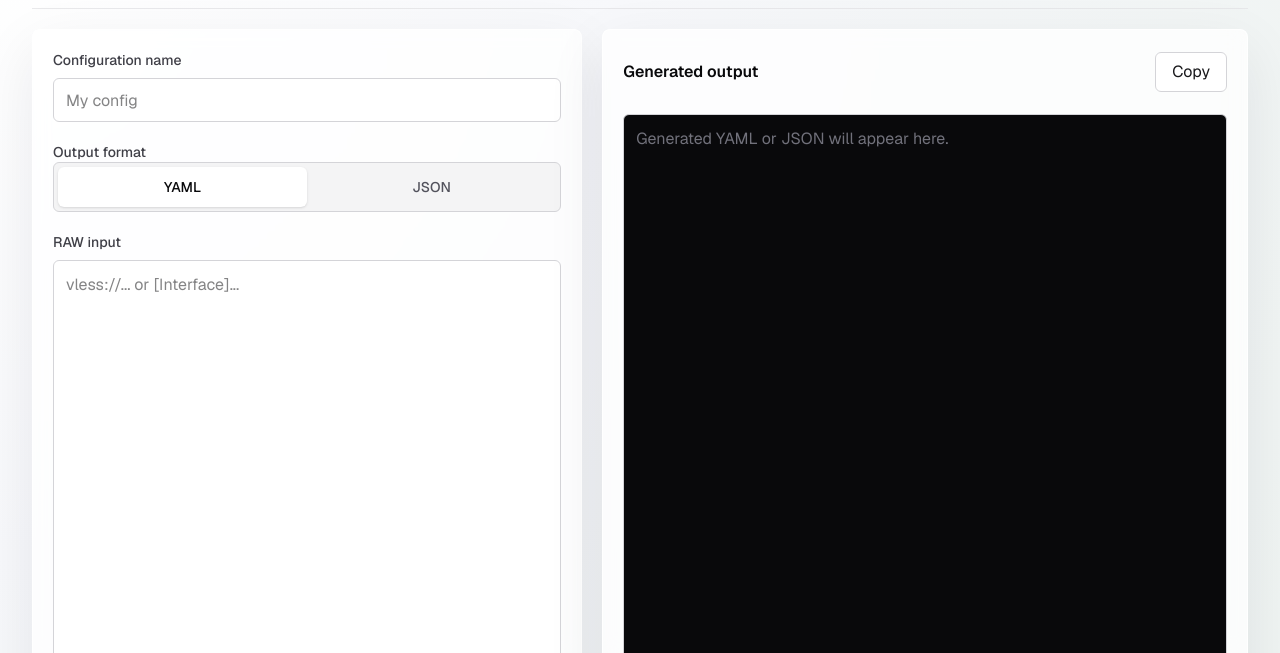
Scenario: ClashConverterPage › submits valid form data and copies generated output
In the field labelled "Configuration name": [307, 100] box [53, 78, 561, 122], type "Demo"
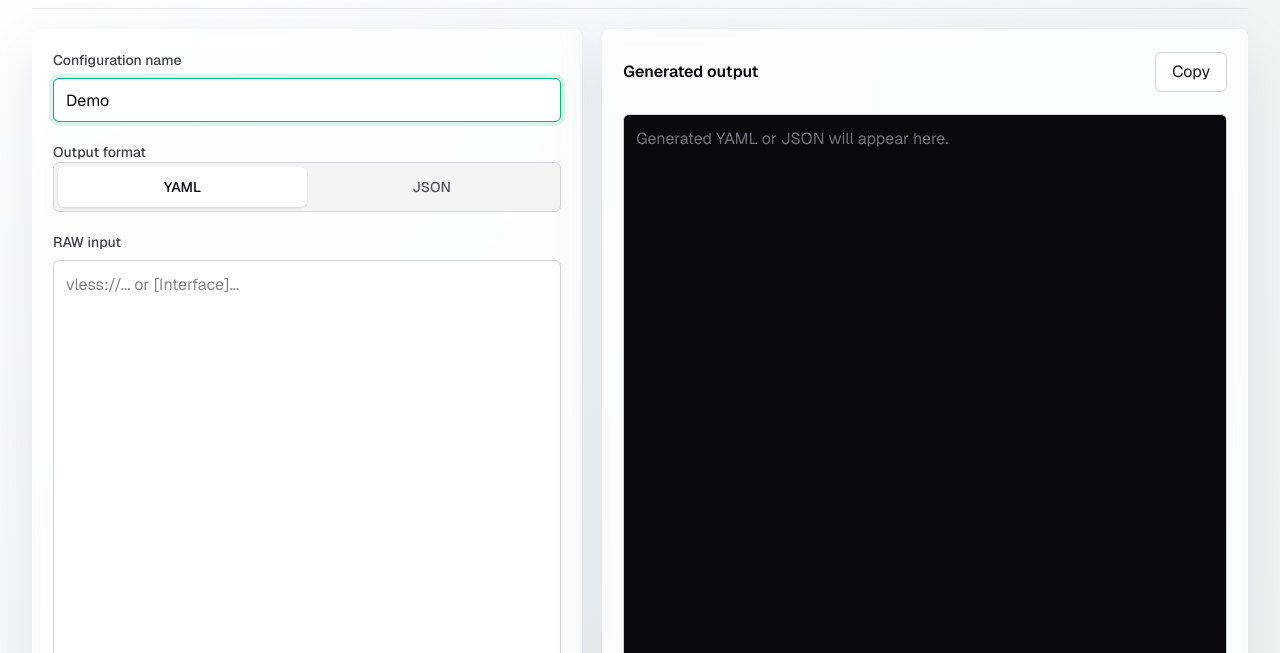
Click the radio button "JSON": [432, 187] box [412, 178, 451, 196]
(page scrolled)
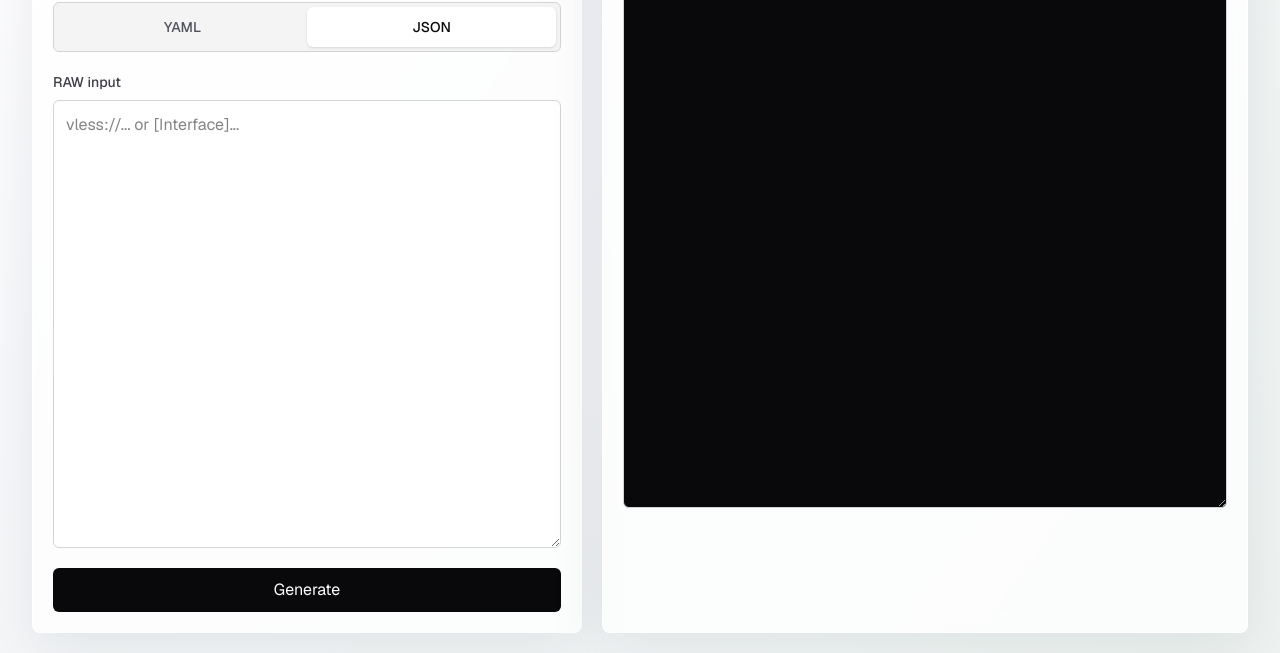
In the text box labelled "RAW input": [307, 324] box [53, 100, 561, 548], type "vless://example"
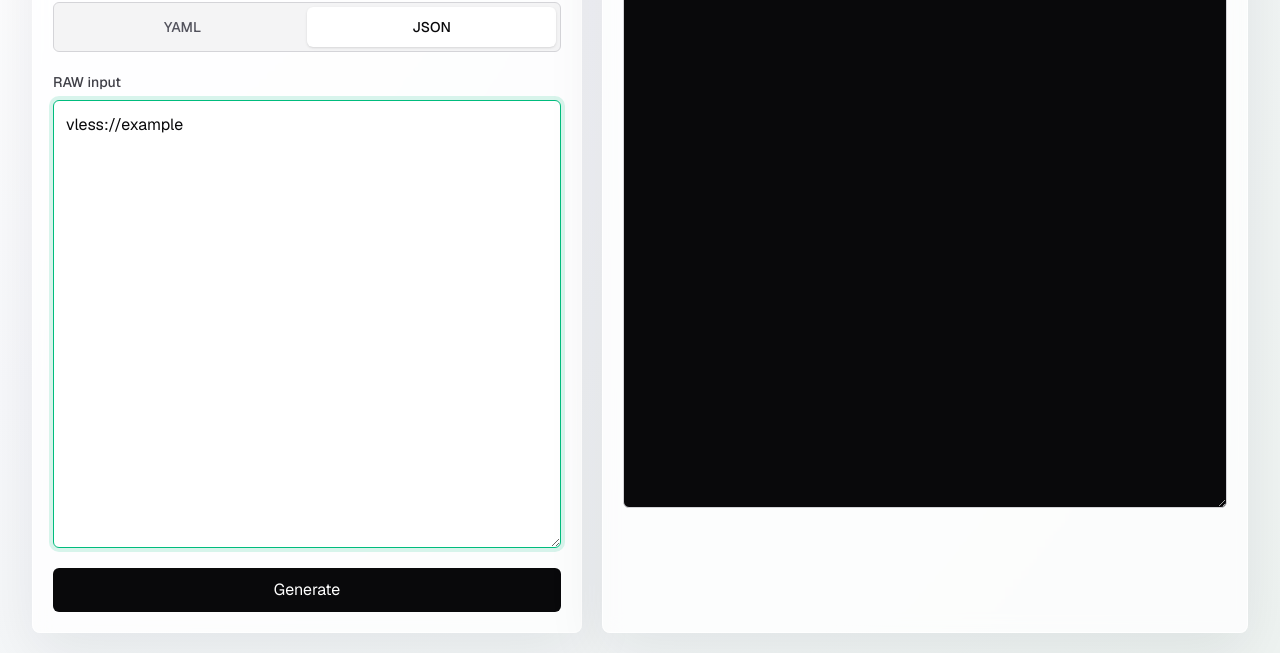
Click the button "Generate": [307, 590] box [53, 568, 561, 612]
(page scrolled)
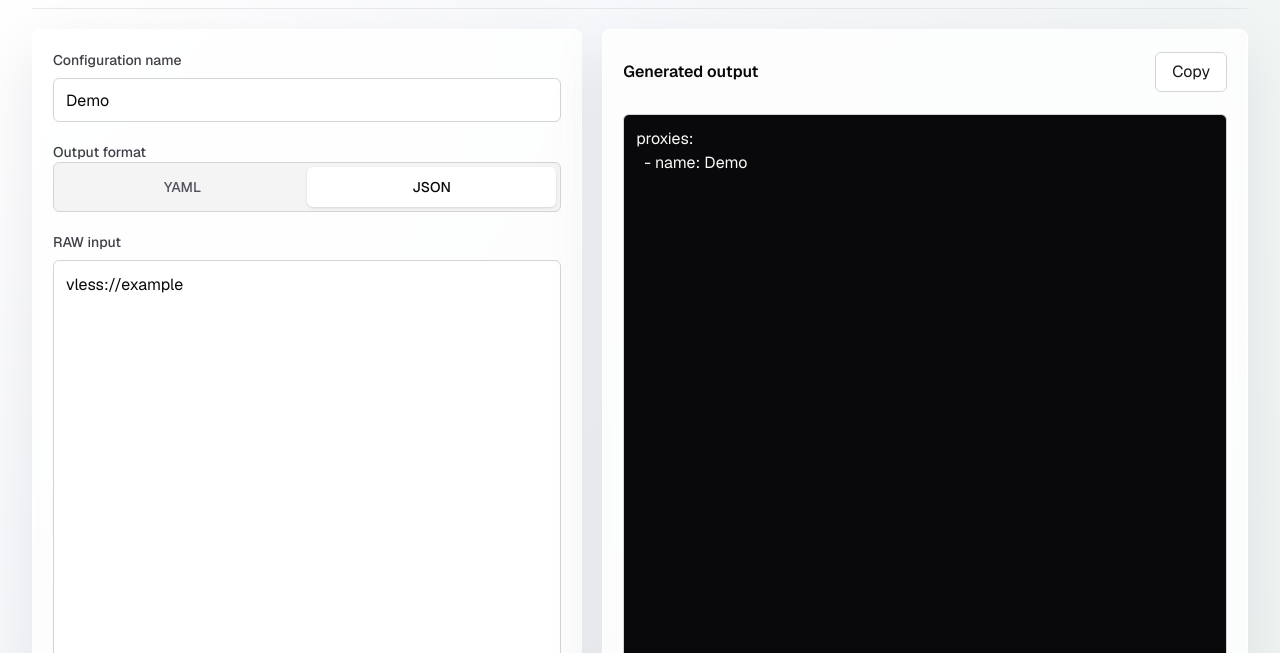
Click the button "Copy": [1191, 72] box [1155, 52, 1227, 92]
(page scrolled)
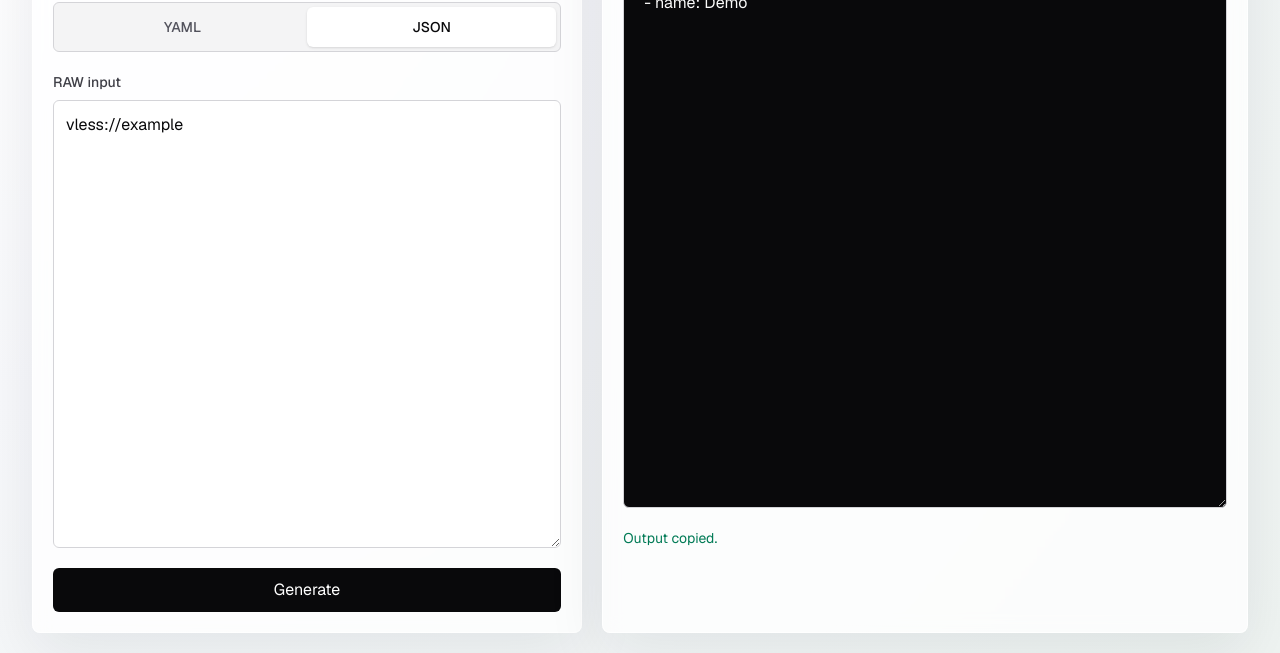
Expected: the text "Output copied." is shown, [623, 529, 717, 547]
